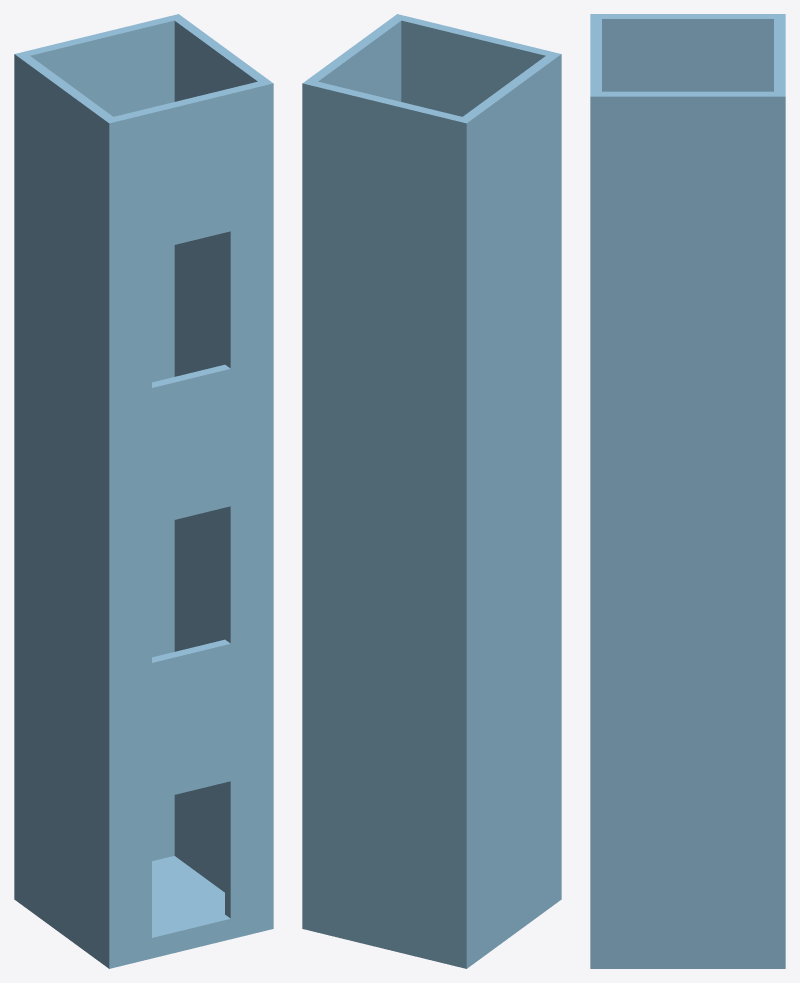
File: shaft.dae
The picture shows the model from 3 angles, left to right: view 1: azimuth 30°, elevation 25°; view 2: azimuth 150°, elevation 25°; view 3: azimuth 270°, elevation 25°; orthographic projection. The views are drawn at different scales.
Parts seen in each view (by area): view 1: ID2; view 2: ID2; view 3: ID2.
Boxes of the visible parts, <box> form: ID2: <box>14,14,273,968</box>; ID2: <box>302,14,561,968</box>; ID2: <box>590,14,785,968</box>.
Size of the model in its own units: 2.5 by 2.5 by 12.3.
